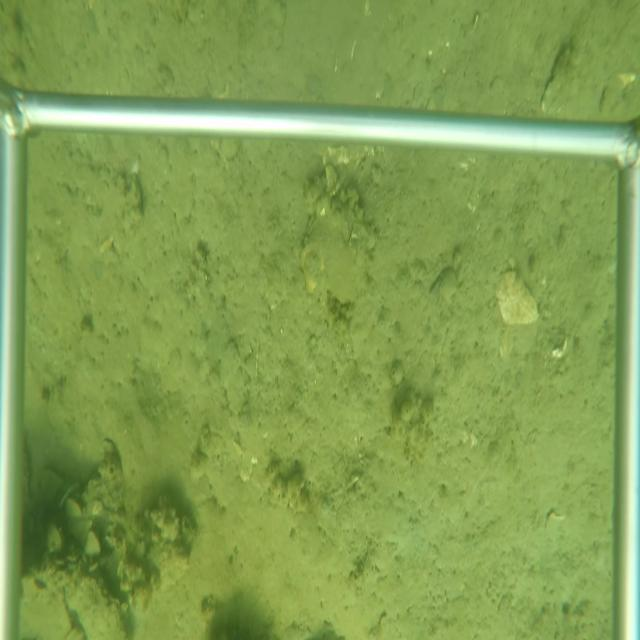Oyster-Closed: (64, 572, 131, 640), (14, 572, 72, 640)
Oyster-Indeterminate: (494, 269, 540, 325)
